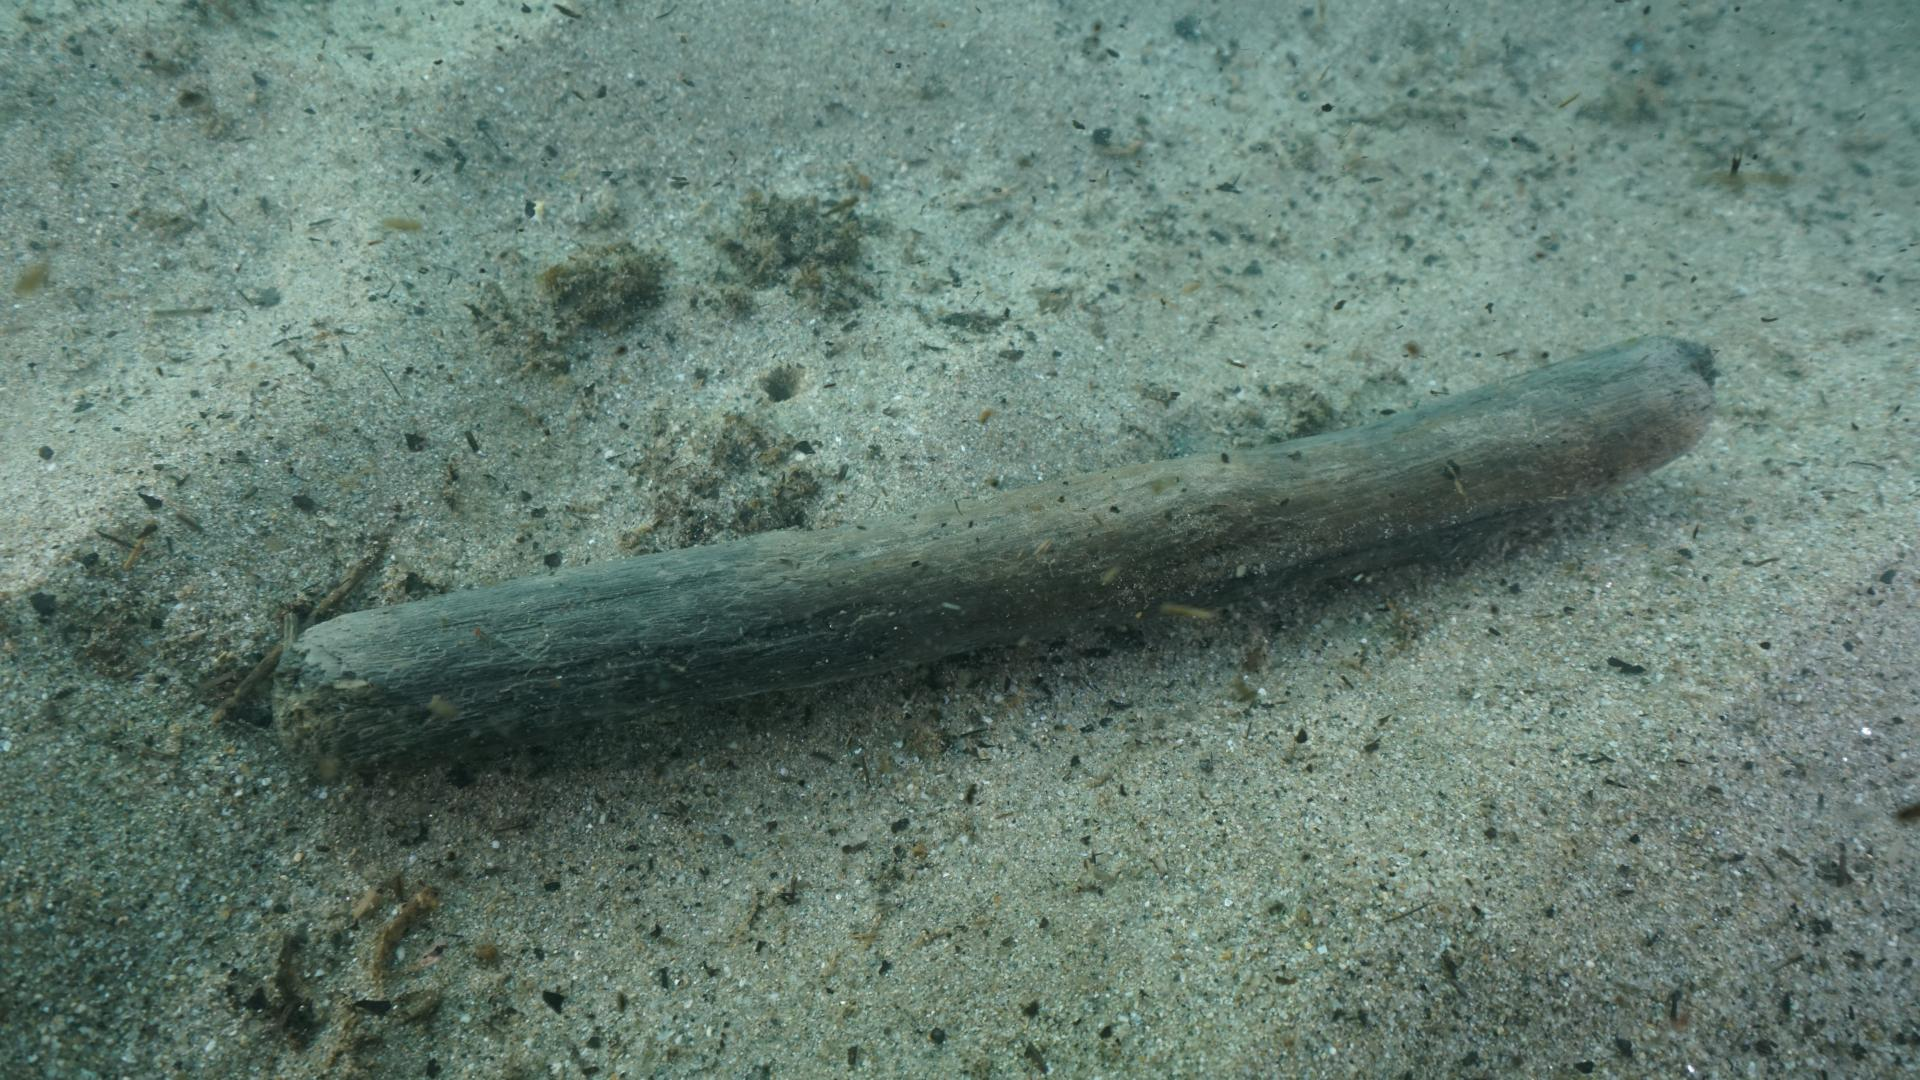wood: (269, 338, 1714, 786)
